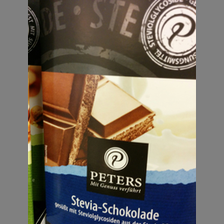chocolate: (40, 1, 195, 224)
